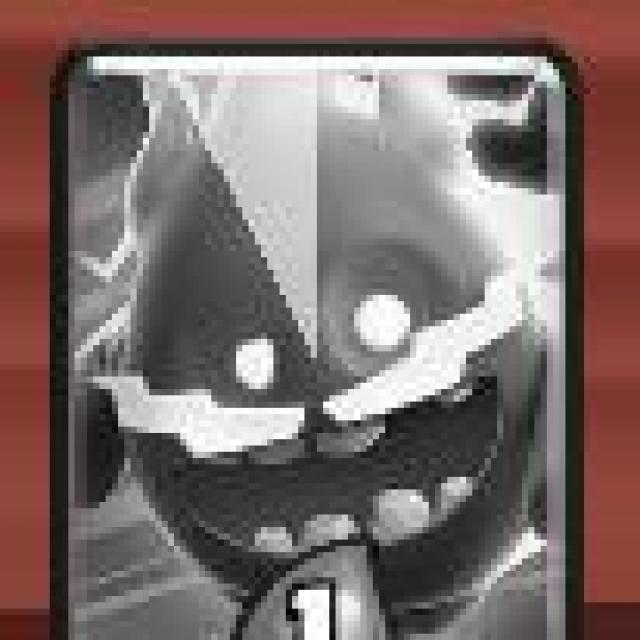Electro_Spirit: (48, 39, 586, 640)
